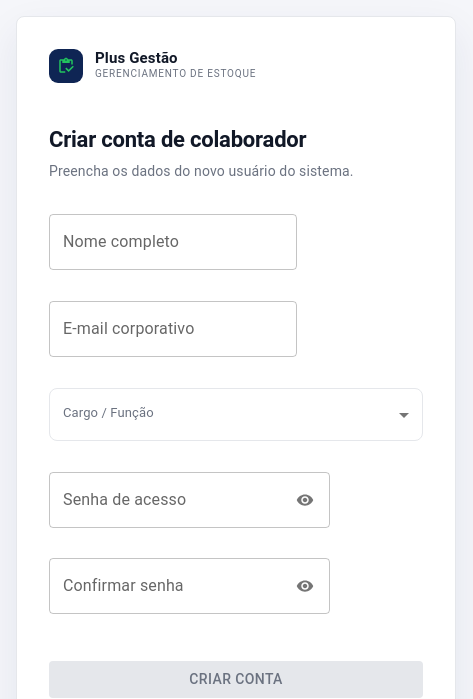
Test: SignupPage — Criar Conta de Colaborador › exibe indicador de força da senha
Type "senha1" into the password field labelled "Senha de acesso". click: point(166, 500)
box: [49,472,283,528]
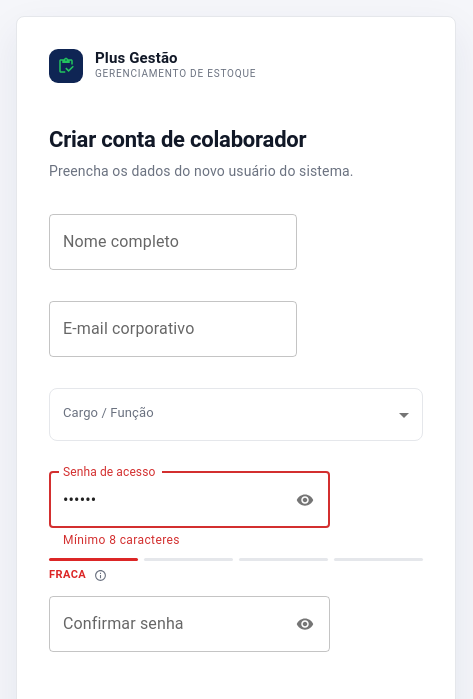
Now the text "Fraca" is shown, box [49,568,86,584]
Type "Senh@Forte1" into the password field labelled "Senha de acesso". click: point(166, 500)
box: [49,472,283,528]
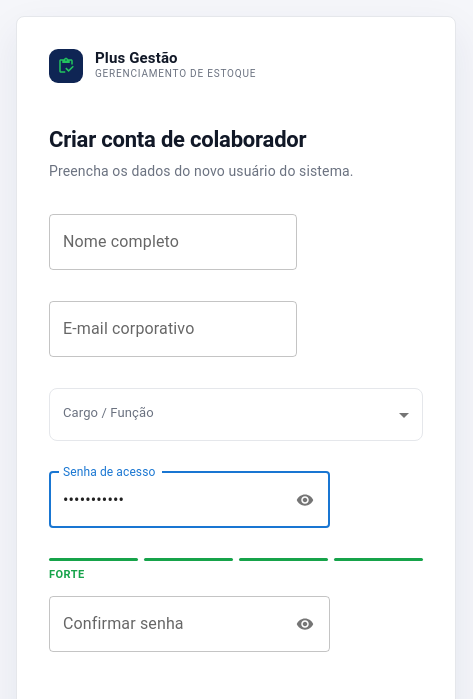
Now the text "Forte" is shown, box [49,568,85,584]
